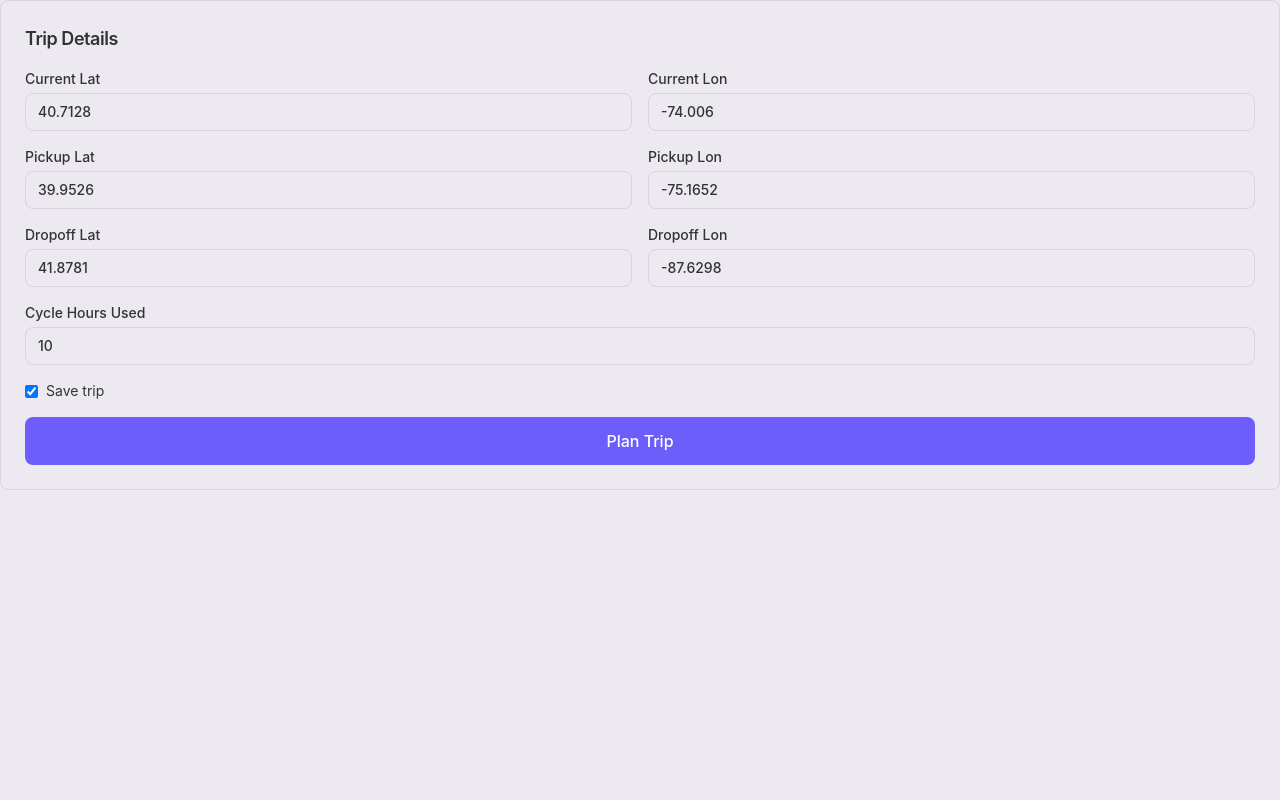
TripForm › displays error tip for ORS_API_KEY errors
Step 1. Click the button "Plan Trip" → (640, 441), box [25,417,1255,465]
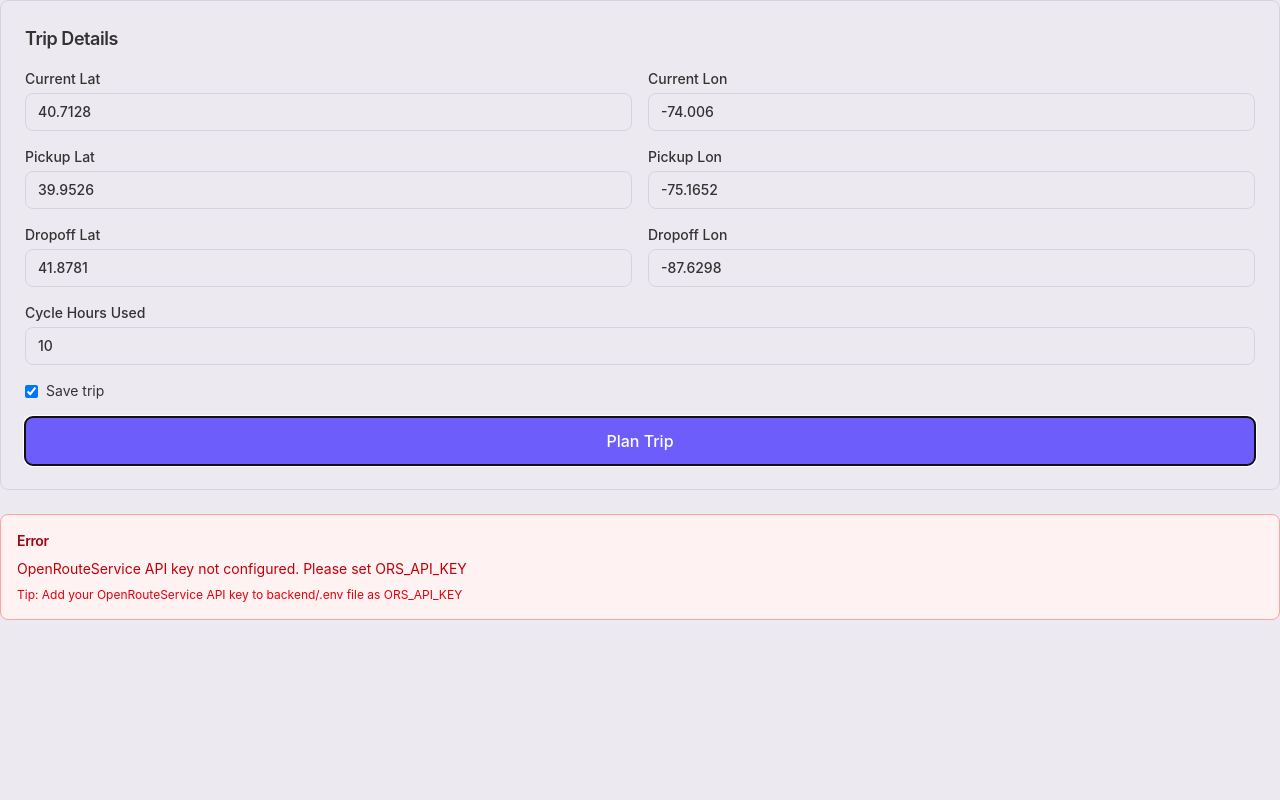
Result: the text "Tip: Add your OpenRouteService API key" is shown at [17,587,462,602]
